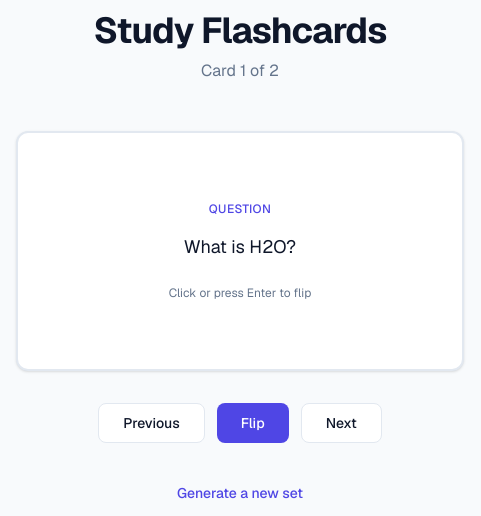
Scenario: Study page › flips the card to reveal the answer
Expected: the text "What is H2O?" is shown, [184,235,296,258]
Click the button "Flip".
click(253, 423)  # box [217,403,289,443]
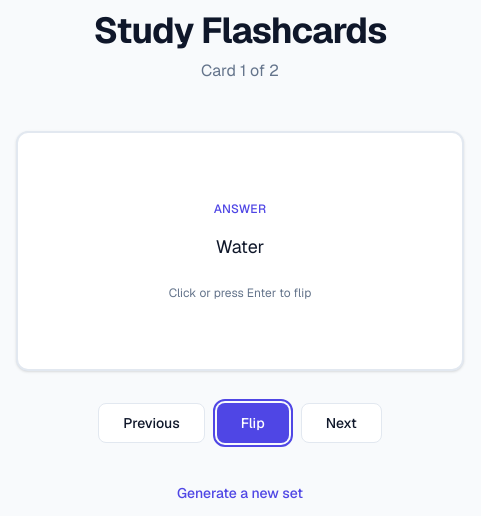
Expected: the text "Water" is shown, [216,235,264,258]
